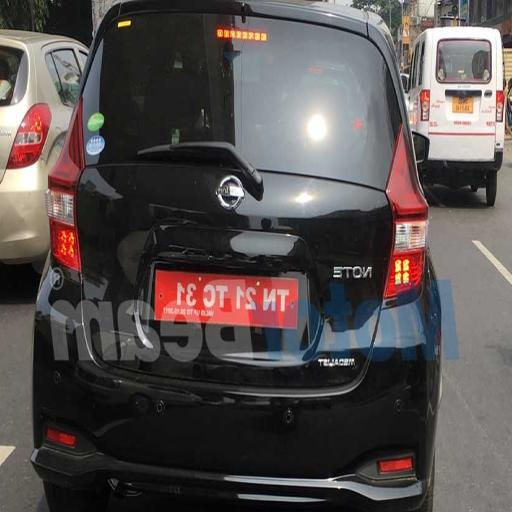License: (154, 274, 300, 323)
